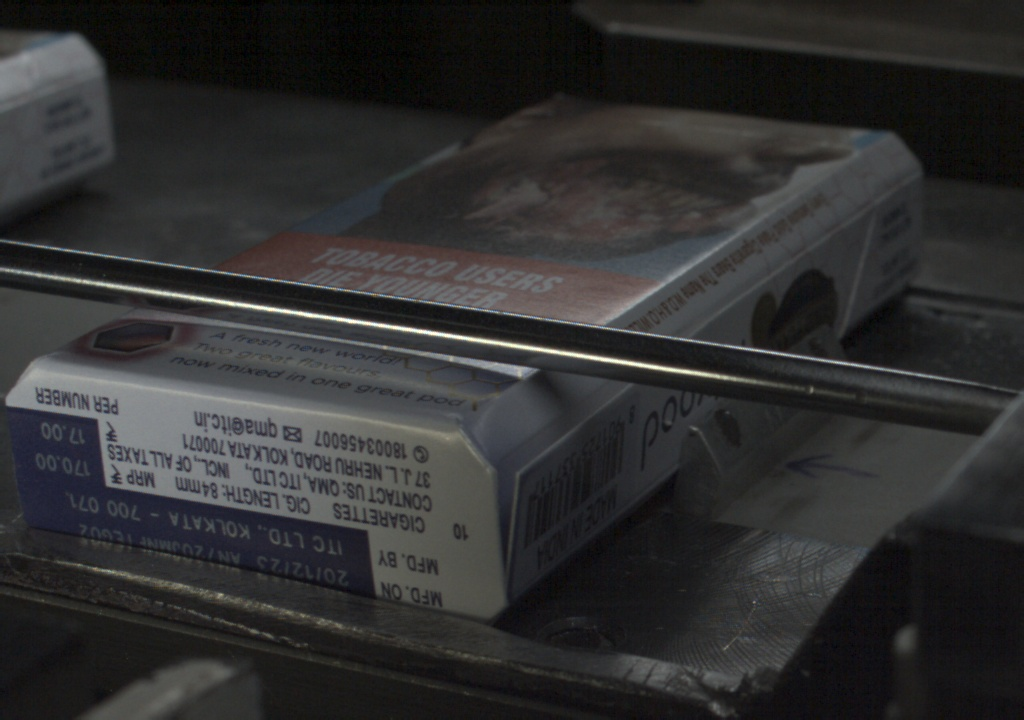g_bottom: (2, 366, 495, 625)
g_label: (19, 488, 372, 598)
g_lmiter: (686, 273, 770, 335), (777, 204, 861, 266), (562, 386, 620, 439)
g_miter: (867, 163, 915, 200)
ng_lmiter: (500, 447, 549, 574)
price: (10, 414, 104, 486)
